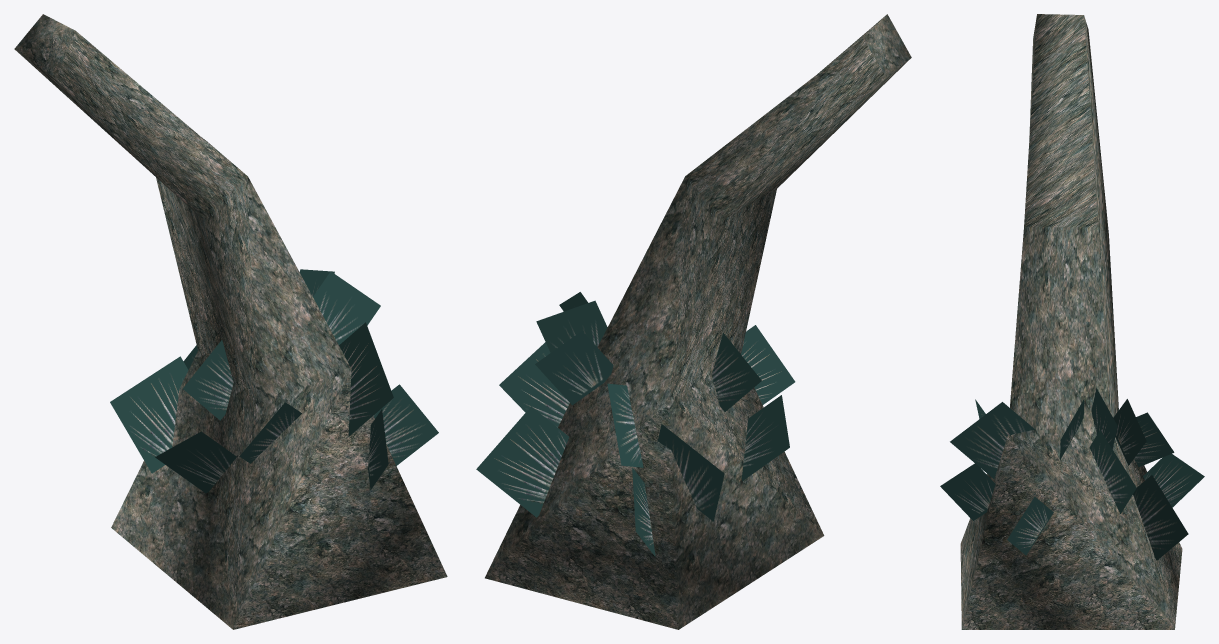
Rendered from rock_crystl_arch_half_med_l4.fbx.
3 renders of one model, left to right at view 1: azimuth 30°, elevation 25°; view 2: azimuth 150°, elevation 25°; view 3: azimuth 270°, elevation 25°, orthographic. The views are drawn at different scales.
Parts seen in each view (by area): view 1: mesh_node; view 2: mesh_node; view 3: mesh_node.
Boxes of the visible parts, box(x1,y1,x2,y2) form: mesh_node: box(14, 14, 447, 629); mesh_node: box(476, 14, 911, 629); mesh_node: box(940, 14, 1204, 629).
Size of the model in its own units: 23.75 by 35.81 by 17.71.
